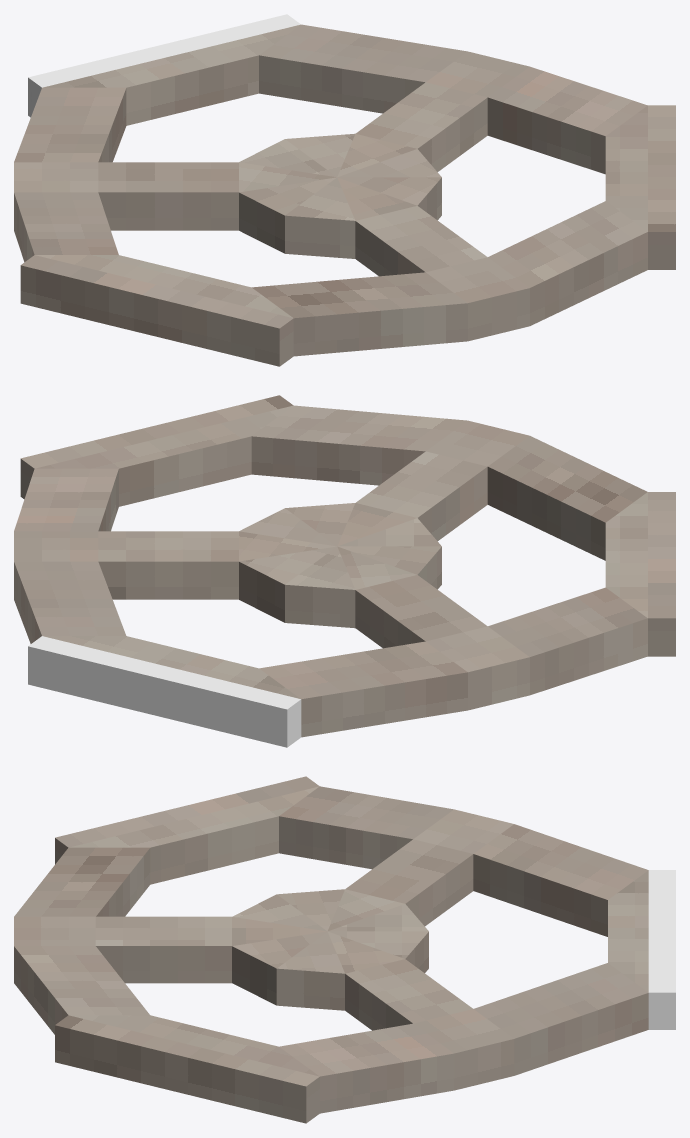
File: medium_wave_wheel.gltf
The picture shows the model from 3 angles, top to bottom: view 1: azimuth 30°, elevation 25°; view 2: azimuth 150°, elevation 25°; view 3: azimuth 270°, elevation 25°; orthographic projection. The views are drawn at different scales.
Visible parts, largest first — view 1: circle; view 2: circle; view 3: circle.
Part boxes in pixels (box(x1,y1,x2,y2)): circle: box(14, 14, 675, 366); circle: box(14, 395, 675, 747); circle: box(14, 776, 675, 1123).
Bounding box in the file's own units: 1.68 × 0.0938 × 1.52.
Materials: 1 (1 with a texture image).
